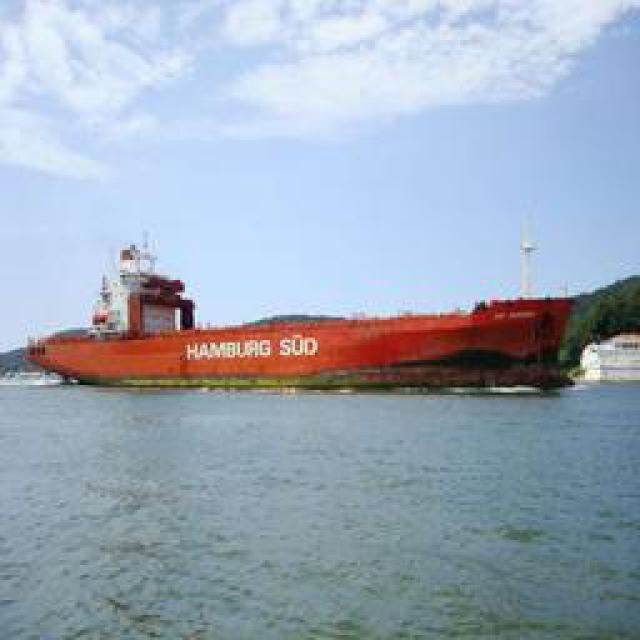Ship: (23, 240, 588, 390)
